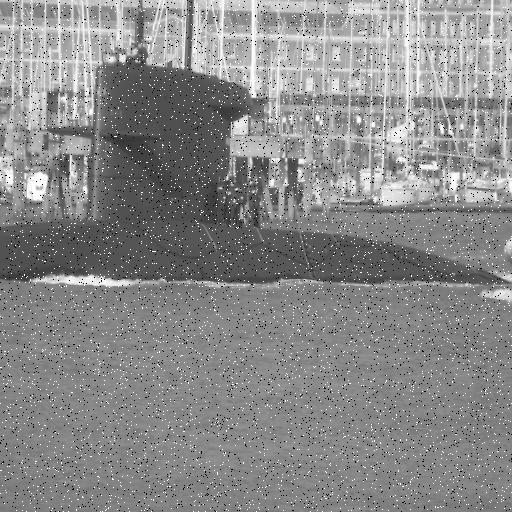submarine: (1, 65, 512, 292)
